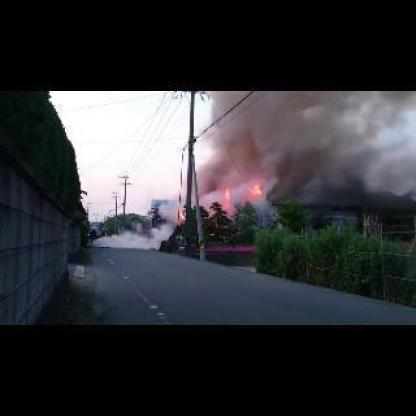fire: (251, 184, 260, 192), (176, 213, 184, 220), (226, 186, 230, 194)
